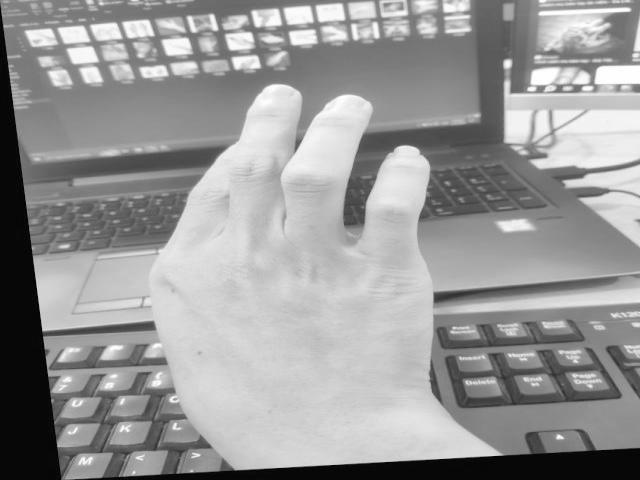not-gloved: (146, 86, 440, 466)
